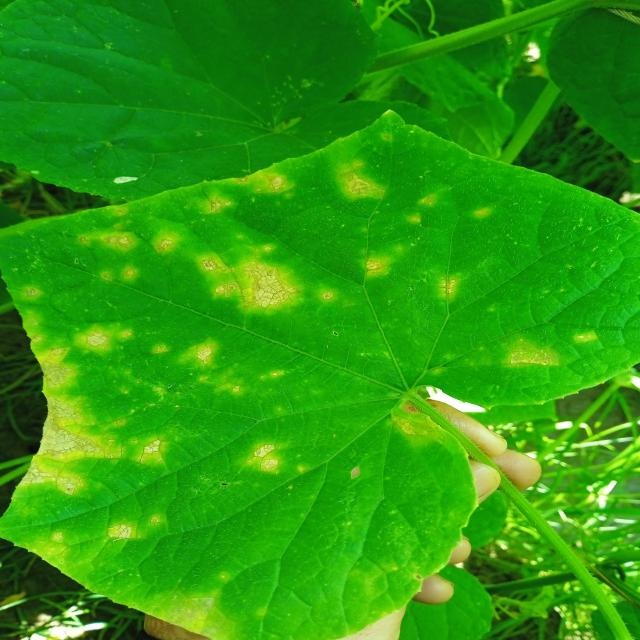cucumber_downy: (4, 145, 638, 622)
